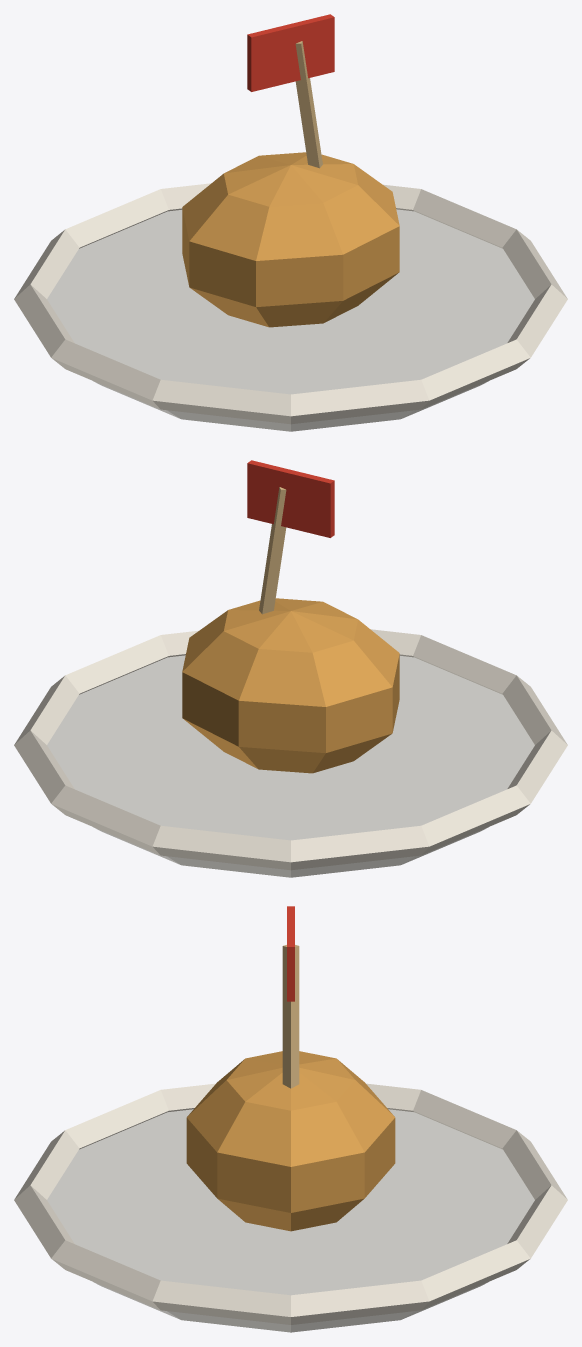
Rendered from sample_plate.glb.
3 renders of one model, top to bottom at view 1: azimuth 30°, elevation 25°; view 2: azimuth 150°, elevation 25°; view 3: azimuth 270°, elevation 25°, orthographic.
Visible parts, largest first — view 1: plate_paper_plate, bite_bite, plate_paper_rim, pick_pick_flag, pick_toothpick; view 2: plate_paper_plate, bite_bite, plate_paper_rim, pick_pick_flag, pick_toothpick; view 3: plate_paper_plate, bite_bite, plate_paper_rim, pick_toothpick, pick_pick_flag.
Boxes of the visible parts, <box> form: plate_paper_plate: <box>47,209,534,431</box>; bite_bite: <box>182,152,399,327</box>; plate_paper_rim: <box>14,183,567,424</box>; pick_pick_flag: <box>247,14,334,91</box>; pick_toothpick: <box>295,41,322,168</box>; plate_paper_plate: <box>47,655,534,877</box>; bite_bite: <box>182,598,399,773</box>; plate_paper_rim: <box>14,629,567,870</box>; pick_pick_flag: <box>247,460,334,537</box>; pick_toothpick: <box>259,487,286,614</box>; plate_paper_plate: <box>47,1109,534,1332</box>; bite_bite: <box>186,1051,395,1231</box>; plate_paper_rim: <box>14,1083,567,1324</box>; pick_toothpick: <box>282,945,299,1088</box>; pick_pick_flag: <box>287,906,294,1001</box>.
Bounding box in the file's own units: 0.202 × 0.126 × 0.202.
